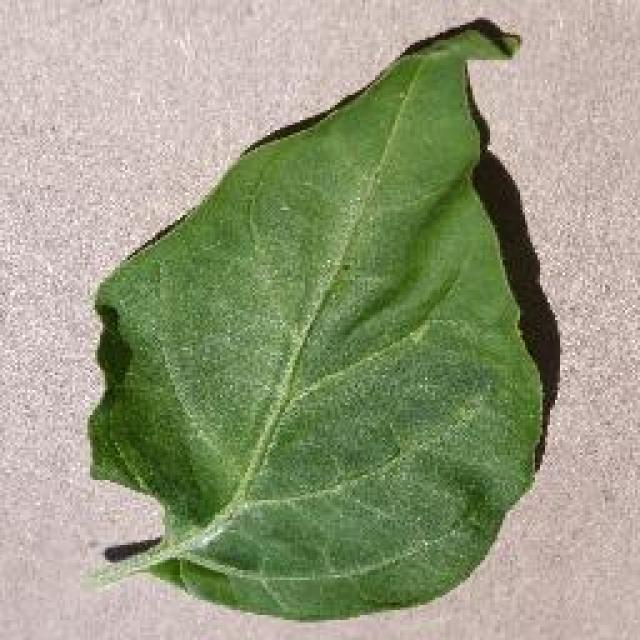Leaf: (368, 71, 491, 291)
